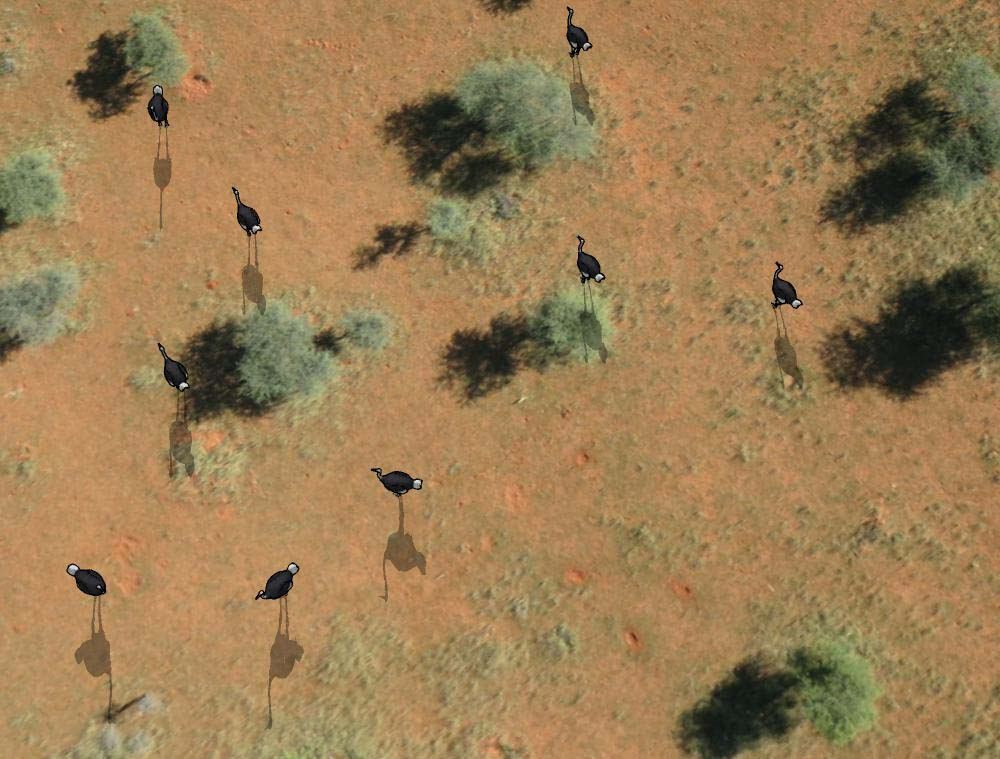springbok: (553, 2, 599, 63), (570, 230, 611, 293), (253, 555, 304, 604), (151, 331, 190, 393), (230, 178, 264, 246), (368, 461, 426, 499), (63, 560, 111, 599), (766, 260, 800, 312), (144, 82, 178, 128)
